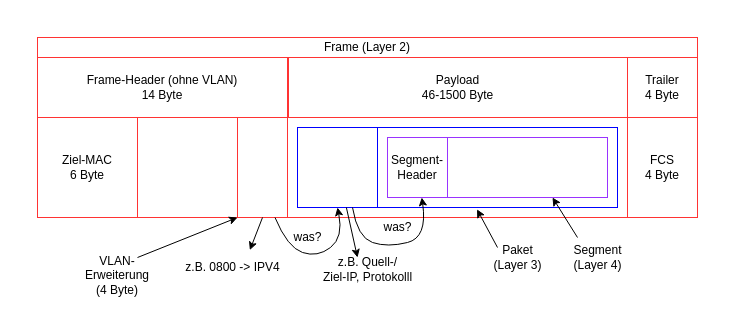
This 735x335 diagram has some shape labels left out. The centre of each missing label's shape, as x and y in pixels:
Paket- Header: the point at 337,167
Quell-MAC 6 Byte: the point at 187,167
Type 2 Byte: the point at 262,167
